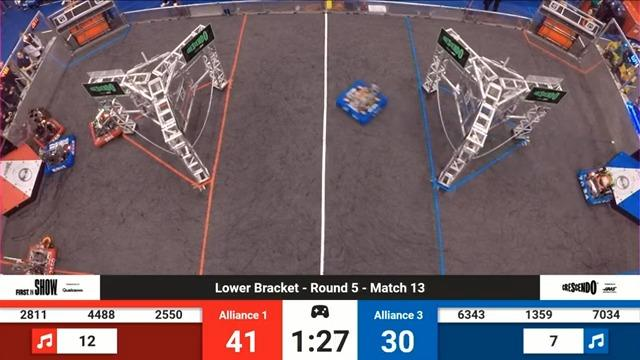robot: (337, 75, 392, 126), (8, 233, 61, 276), (571, 157, 614, 209), (83, 105, 127, 151), (41, 133, 78, 177), (25, 109, 62, 149)
